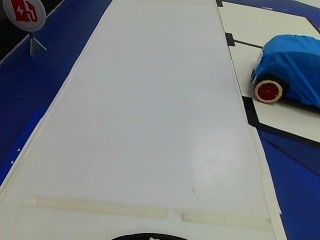battery: (0, 0, 47, 32)
car: (247, 30, 318, 105)
